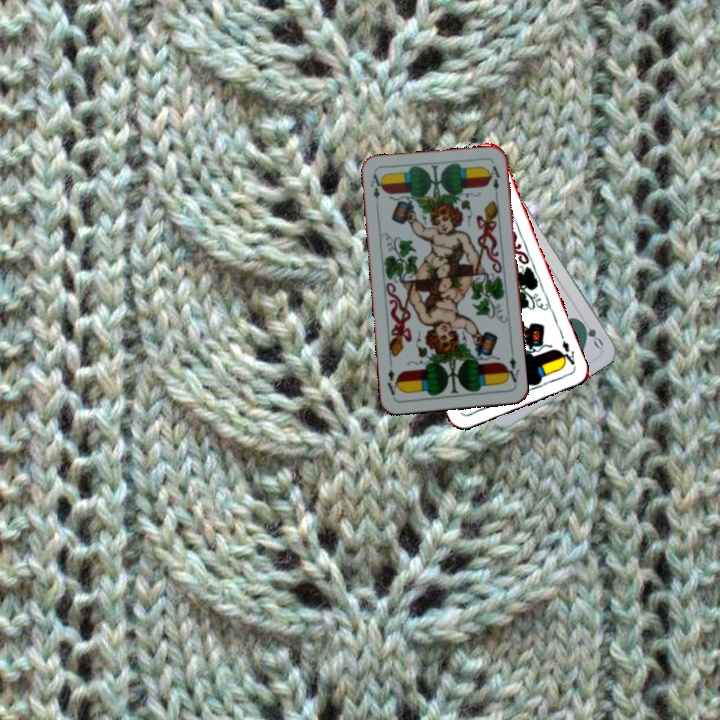EA: (501, 348, 522, 385), (366, 170, 385, 210), (555, 336, 578, 369)
GO: (575, 314, 606, 351)
